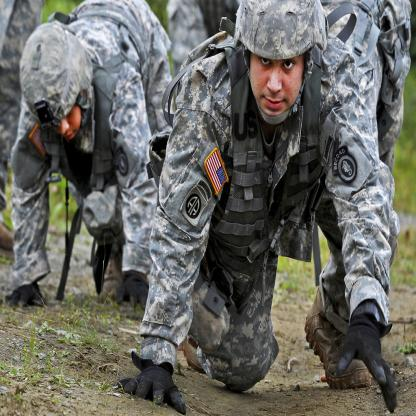Helmet: (237, 1, 328, 127), (17, 20, 96, 156)
